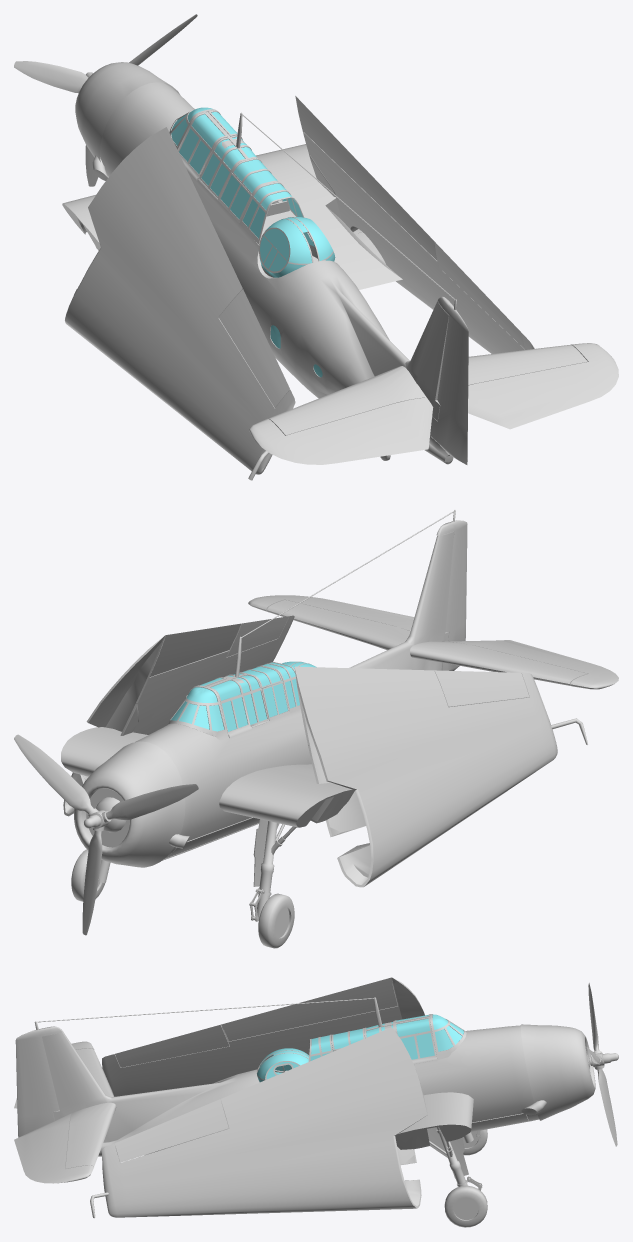
File: TBM-3 Avenger_wings 3.fbx
3 views of the same model, one above another, from view 1: azimuth 30°, elevation 25°; view 2: azimuth 150°, elevation 25°; view 3: azimuth 270°, elevation 25° (orthographic). The views are drawn at different scales.
Parts seen in each view (by area): view 1: Bodywork.005, wing_L.008, wing_L.009, slider_R_2.007, elevators.008, elevators.007, rudder.005, spinner.005; view 2: Bodywork.005, wing_L.008, wing_L.009, spinner.005, slider_R_2.007, rudder.005, elevators.008, elevators.007; view 3: wing_L.009, Bodywork.005, wing_L.008, slider_R_2.007, rudder.005, elevators.007, spinner.005, slider_R.005.
Part boxes in pixels (x1,y1,x2,y2): Bodywork.005: [62, 62, 587, 464]; wing_L.008: [65, 127, 295, 480]; wing_L.009: [295, 96, 534, 353]; slider_R_2.007: [171, 107, 335, 377]; elevators.008: [249, 397, 433, 464]; elevators.007: [468, 343, 618, 429]; rudder.005: [430, 296, 468, 464]; spinner.005: [14, 14, 197, 186]; Bodywork.005: [61, 511, 587, 948]; wing_L.008: [294, 666, 587, 887]; wing_L.009: [63, 615, 294, 816]; spinner.005: [14, 734, 198, 935]; slider_R_2.007: [171, 661, 316, 731]; rudder.005: [436, 510, 467, 670]; elevators.008: [442, 640, 618, 689]; elevators.007: [248, 595, 414, 631]; wing_L.009: [90, 1027, 427, 1218]; Bodywork.005: [37, 997, 595, 1227]; wing_L.008: [102, 977, 424, 1096]; slider_R_2.007: [257, 1014, 463, 1082]; rudder.005: [15, 1021, 62, 1137]; elevators.007: [14, 1113, 93, 1183]; spinner.005: [586, 983, 618, 1146]; slider_R.005: [394, 1017, 437, 1063].
Size of the model in its own units: 662 by 1236 by 435.
